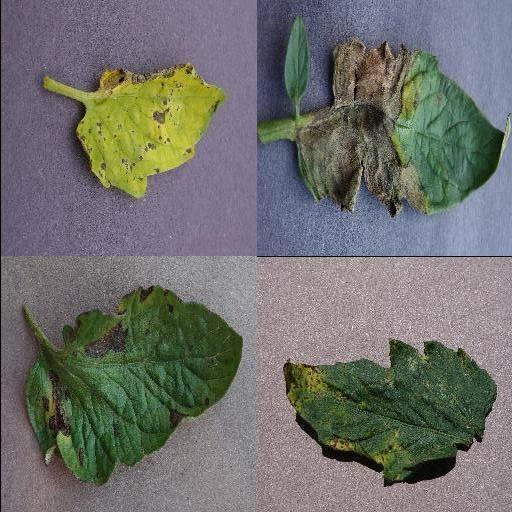Early Blight: (21, 287, 243, 487)
Late Blight: (296, 38, 512, 220)
Septoria: (284, 337, 498, 481), (75, 62, 229, 200)
